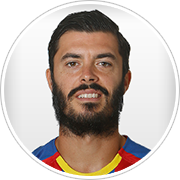face: (43, 35, 133, 129)
